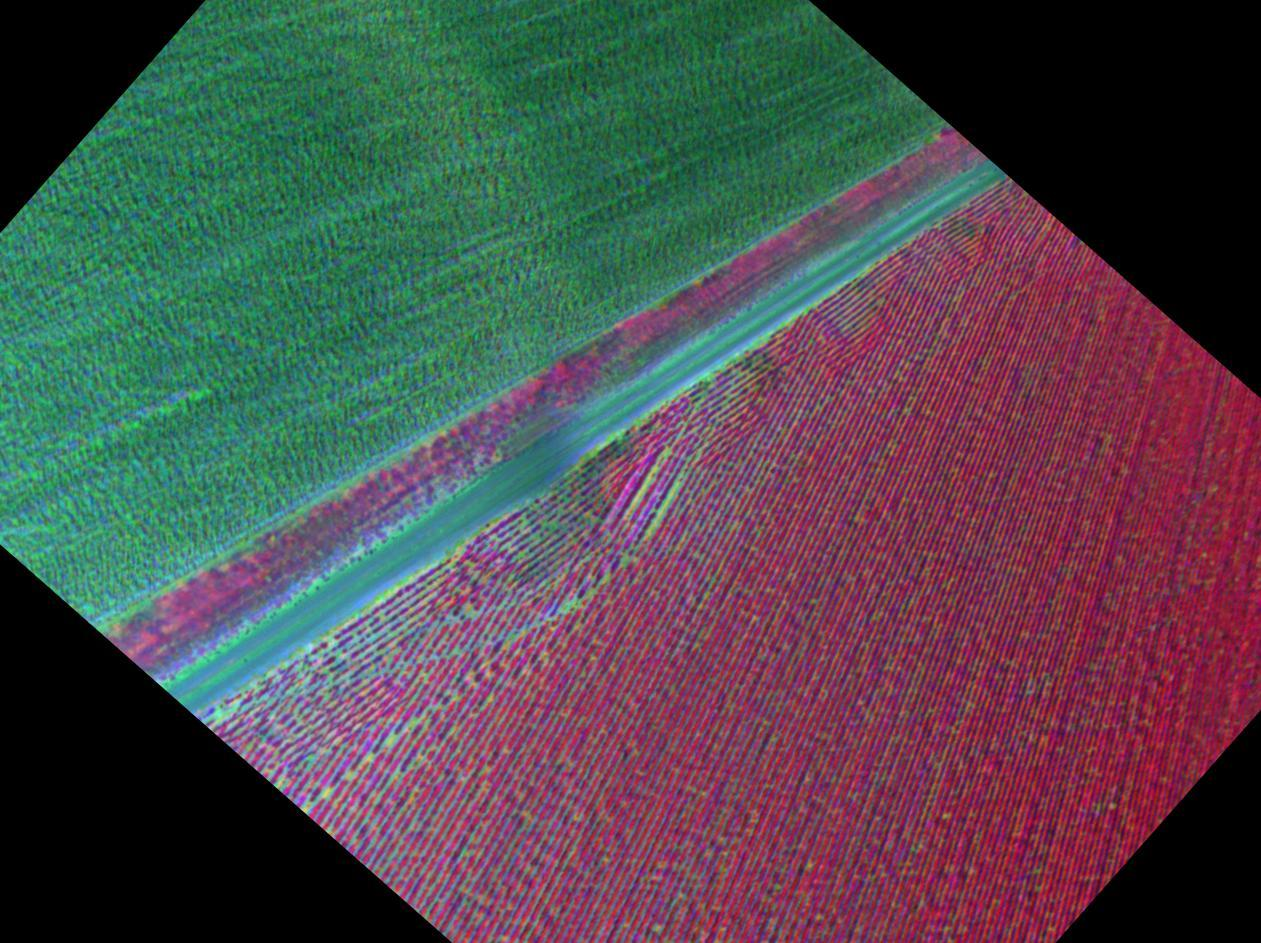dc: (349, 775, 353, 779), (664, 454, 667, 457), (413, 723, 416, 726)
